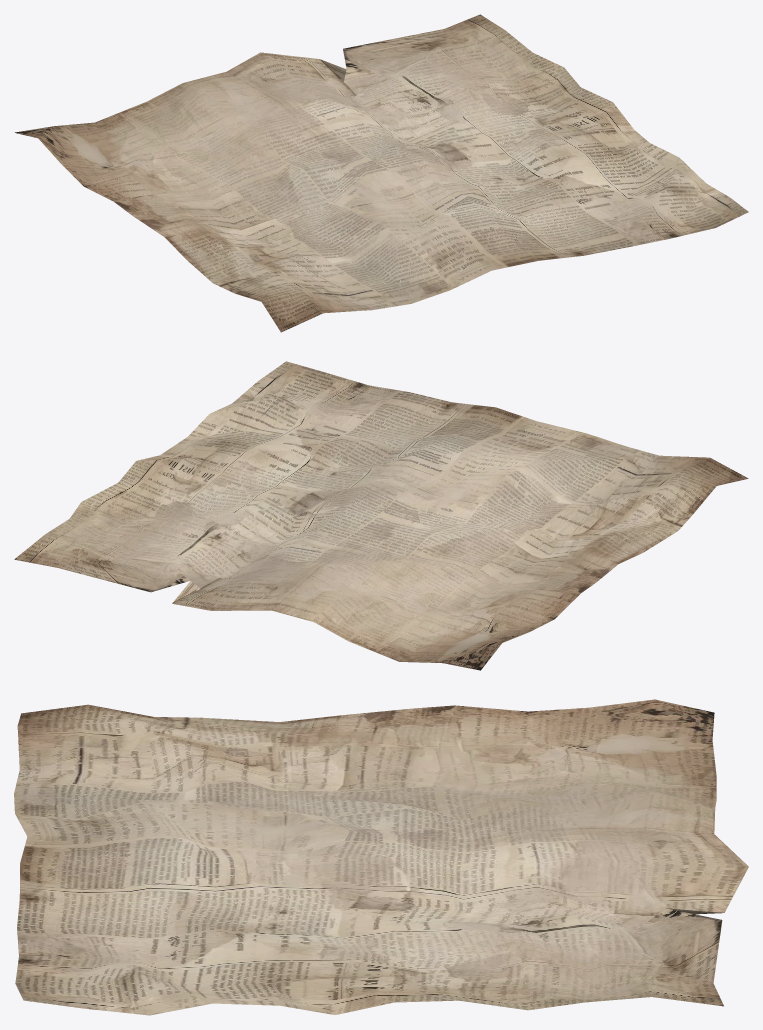
Rendered from newspaper-sheet.glb.
3 renders of one model, top to bottom at view 1: azimuth 30°, elevation 25°; view 2: azimuth 150°, elevation 25°; view 3: azimuth 270°, elevation 25°, orthographic. The views are drawn at different scales.
Parts seen in each view (by area): view 1: Object_2.001; view 2: Object_2.001; view 3: Object_2.001.
Part boxes in pixels (<box>): Object_2.001: <box>15,14,748,332</box>; Object_2.001: <box>14,361,748,670</box>; Object_2.001: <box>14,699,748,1015</box>.
Size of the model in its own units: 1.87 by 0.1174 by 1.93.
1 material, 1 textured.
